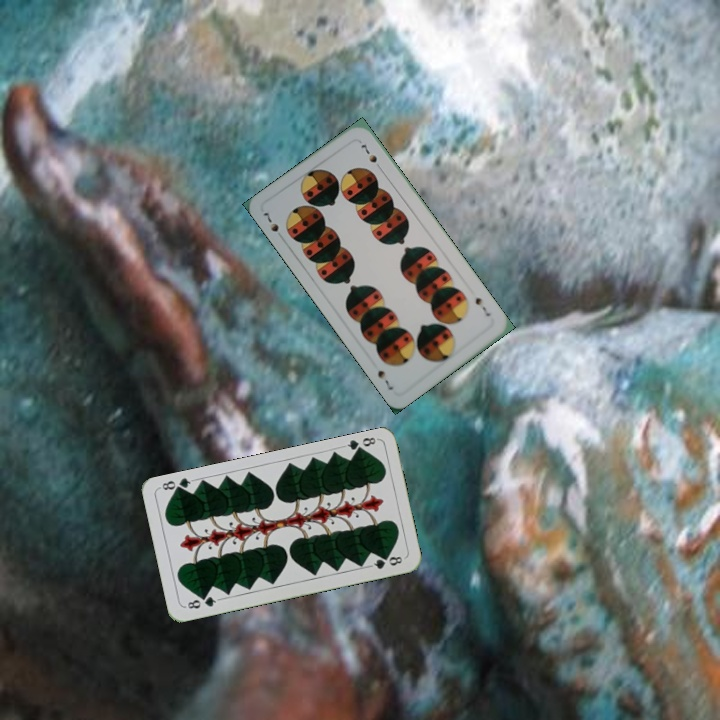G8: (339, 432, 380, 456), (181, 592, 222, 611)
S7: (259, 208, 281, 234), (471, 293, 493, 319)
